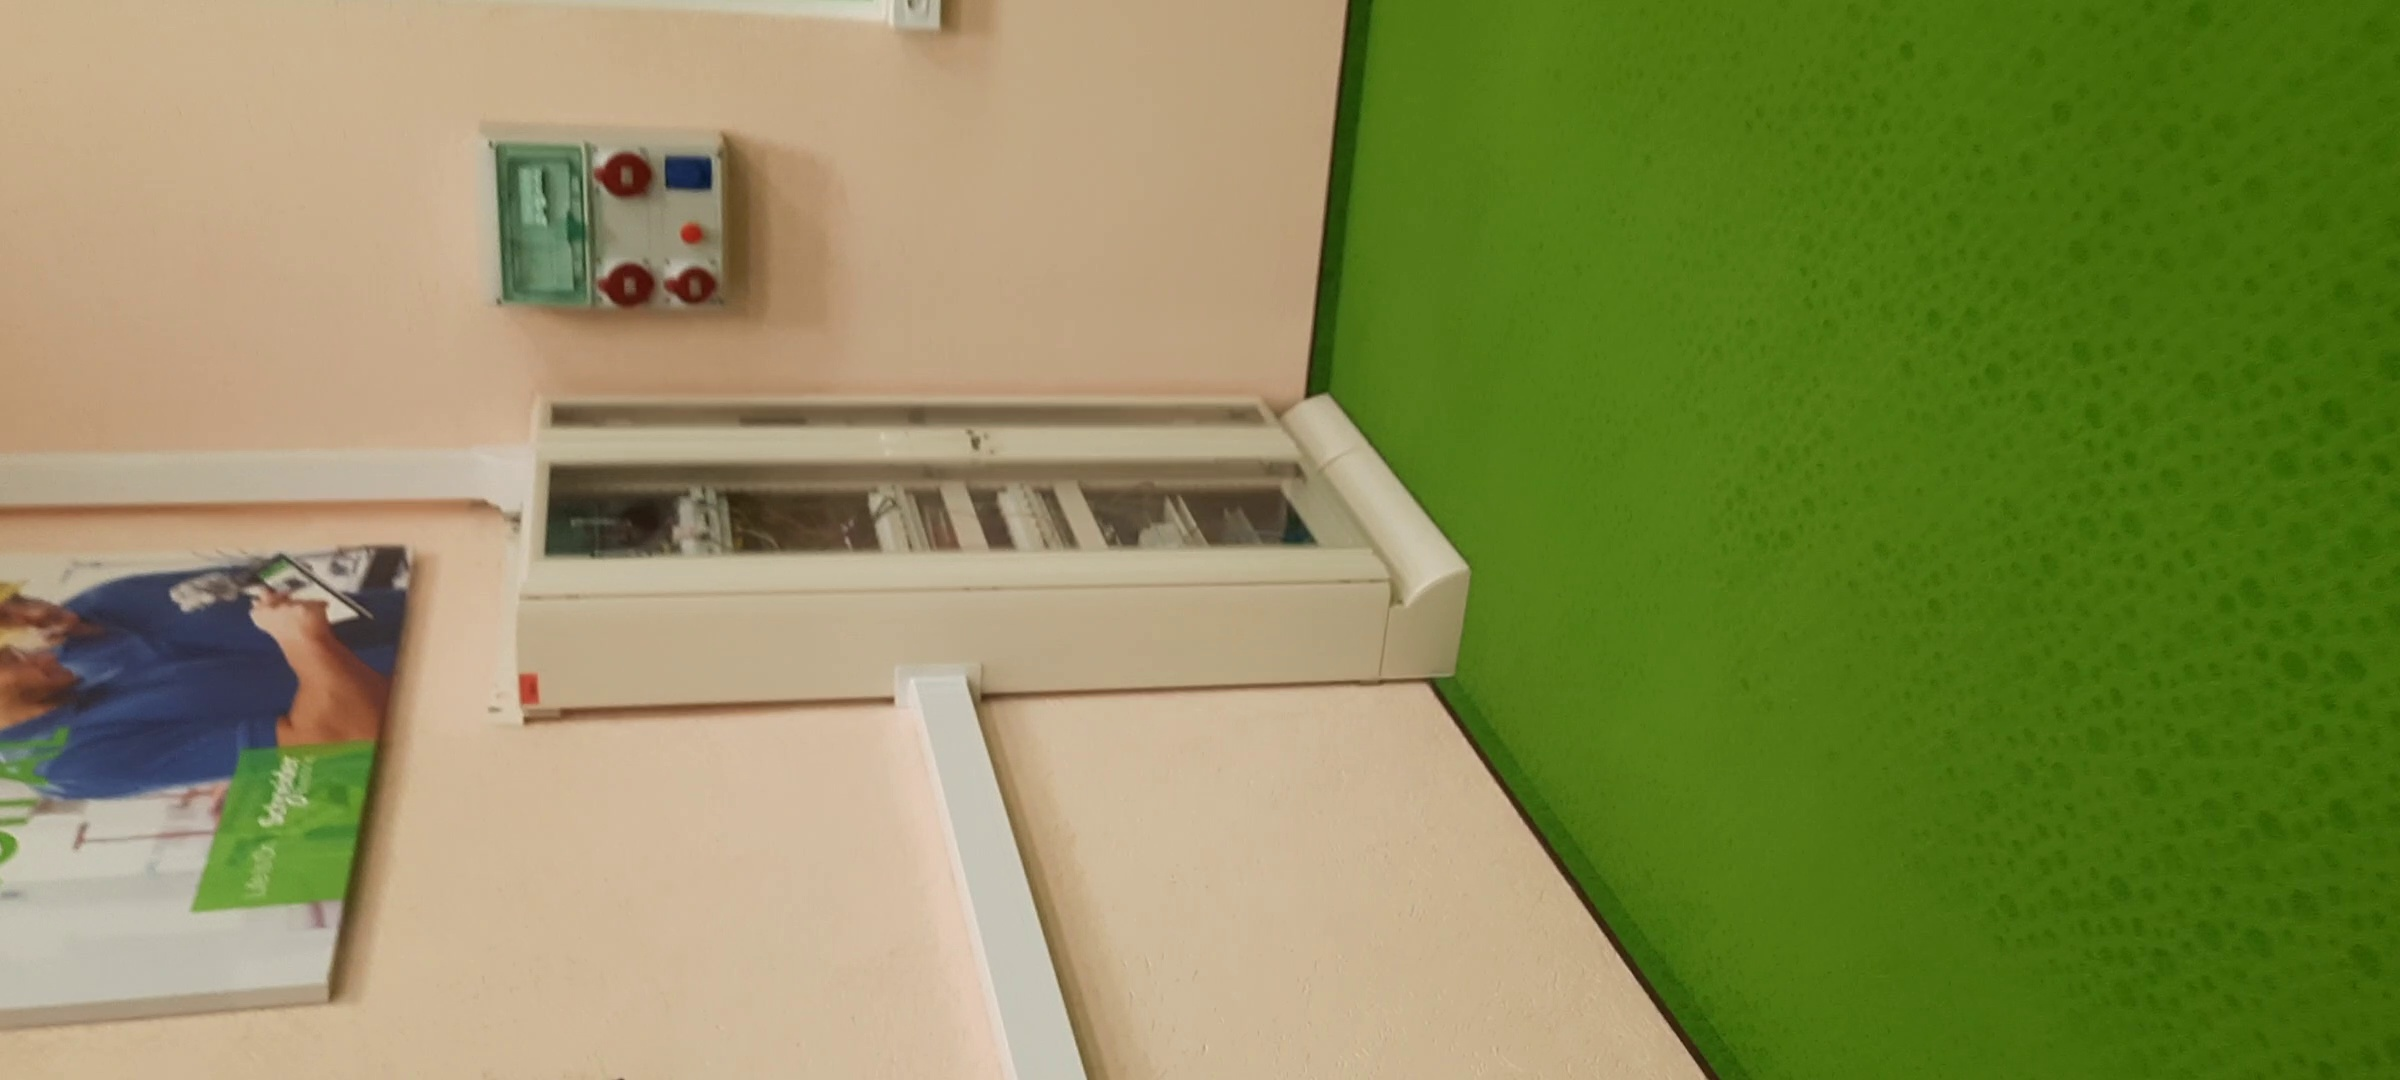stand1: (517, 384, 1462, 714)
